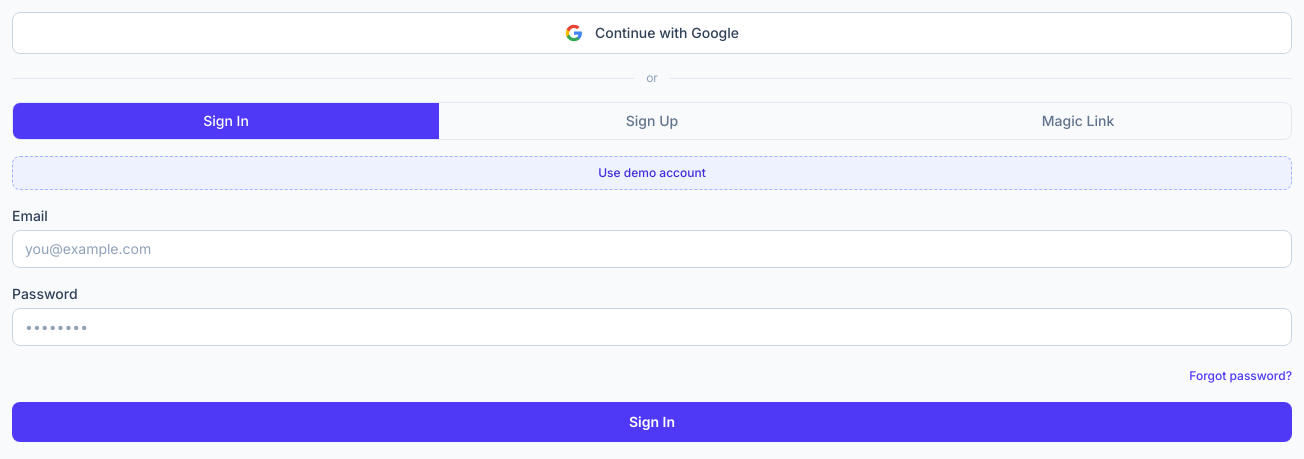
Test: AuthForm — demo account › fills in demo credentials when clicked in sign-in mode
The image size is (1304, 459).
What coordinates should you click on to do the following:
click the button "Use demo account"
I would click on:
 (652, 173)
Its box is [12,156,1292,190].
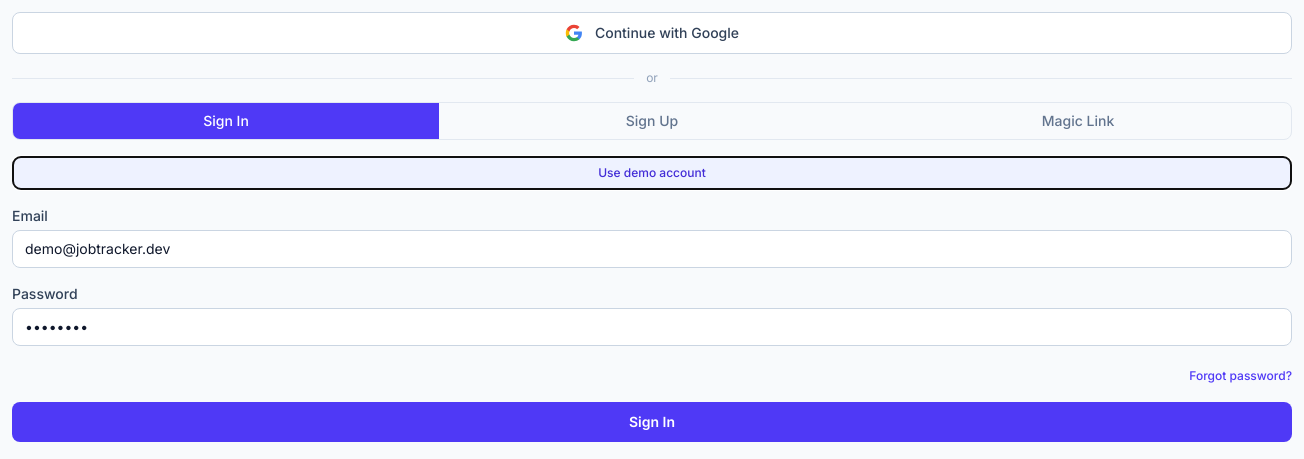
Check: the field with placeholder "you@example.com" holds "demo@jobtracker.dev", box [12,230,1292,268]
Check: the password field with placeholder "••••••••" holds "demo1234", box [12,308,1292,346]
